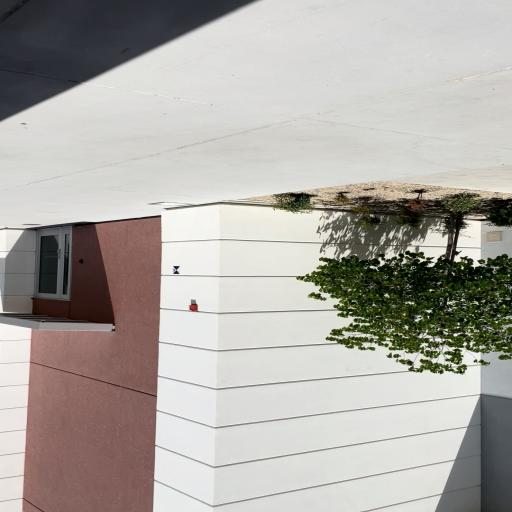target6: (173, 266, 180, 274)
